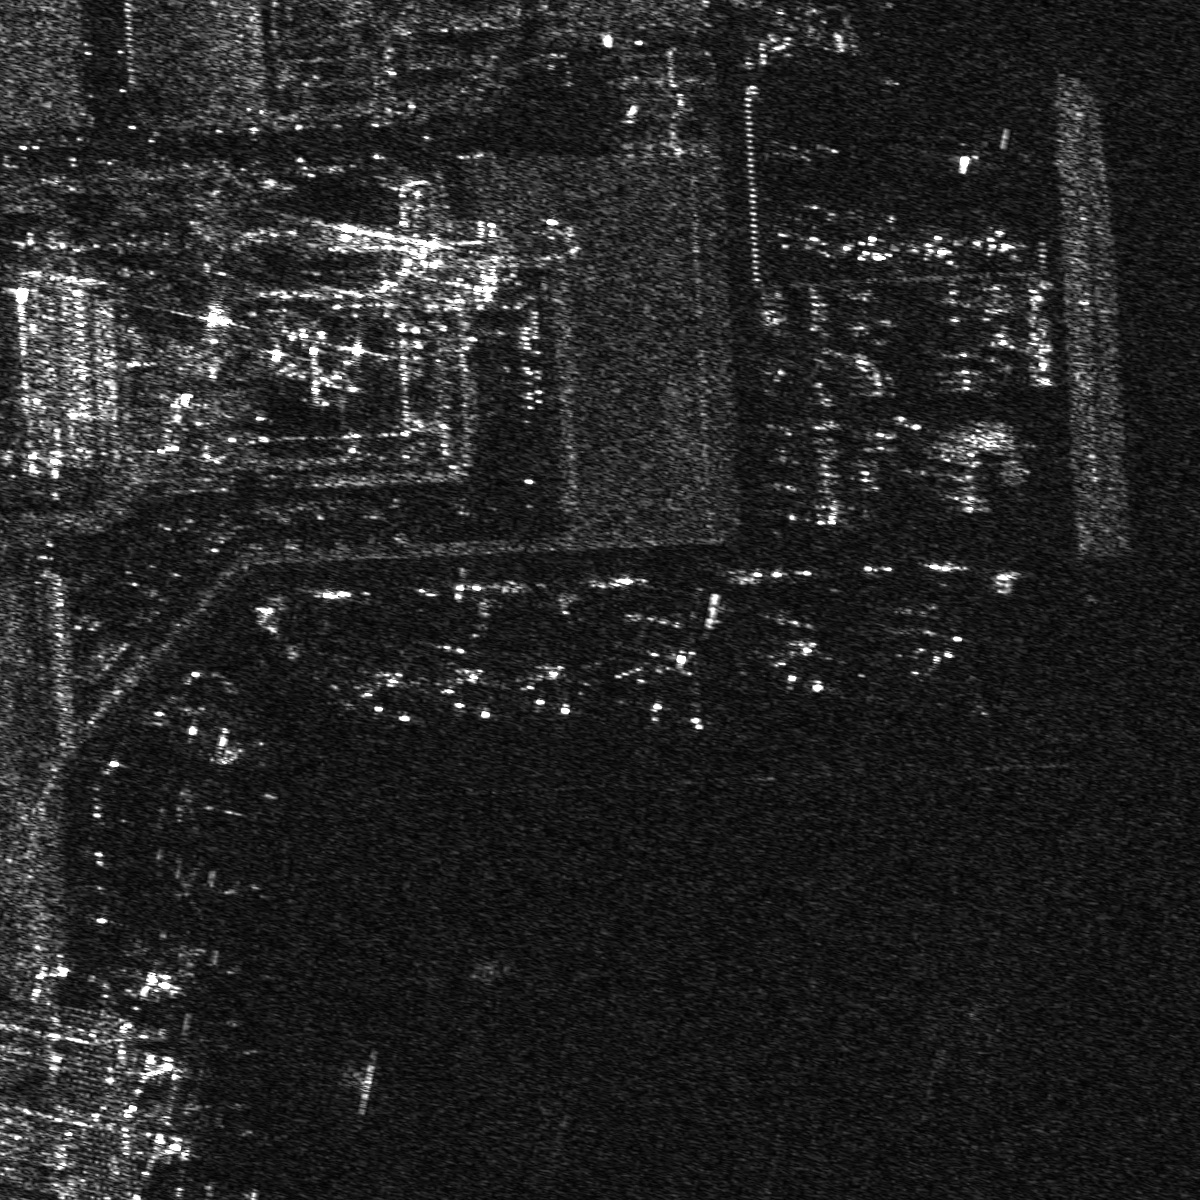ARJ21: (842, 231, 900, 264)
Boeing737: (770, 616, 846, 695), (896, 609, 971, 673), (430, 663, 505, 724), (520, 659, 592, 716), (353, 669, 424, 723)
other: (613, 636, 747, 731), (907, 226, 963, 268), (971, 225, 1027, 265)
